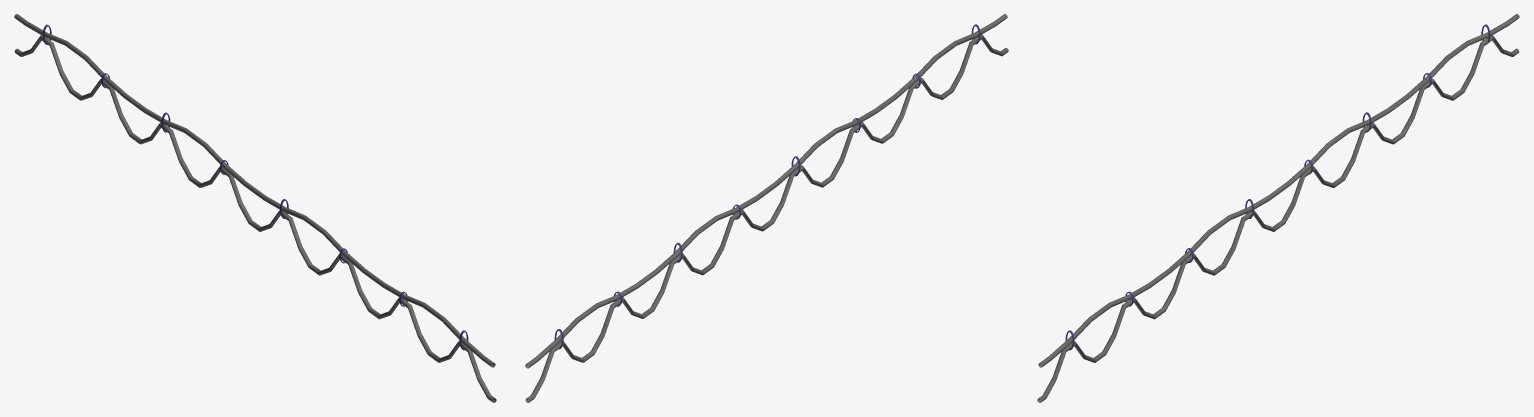
File: cable.fbx
The picture shows the model from 3 angles, left to right: view 1: azimuth 30°, elevation 25°; view 2: azimuth 150°, elevation 25°; view 3: azimuth 330°, elevation 25°; orthographic projection.
Visible parts, largest first — view 1: pCylinder31, polySurface46, polySurface33; view 2: pCylinder31, polySurface33, polySurface46; view 3: pCylinder31, polySurface46, polySurface33.
Part boxes in pixels (<box>): pCylinder31: <box>14,14,495,367</box>; polySurface46: <box>253,210,496,402</box>; polySurface33: <box>14,35,256,227</box>; pCylinder31: <box>525,14,1007,368</box>; polySurface33: <box>525,209,769,402</box>; polySurface46: <box>766,34,1008,226</box>; pCylinder31: <box>1038,14,1519,367</box>; polySurface46: <box>1037,210,1280,402</box>; polySurface33: <box>1277,35,1519,227</box>.
Bounding box in the file's own units: 5.64 × 33.48 × 565.
2 materials, 1 textured.
